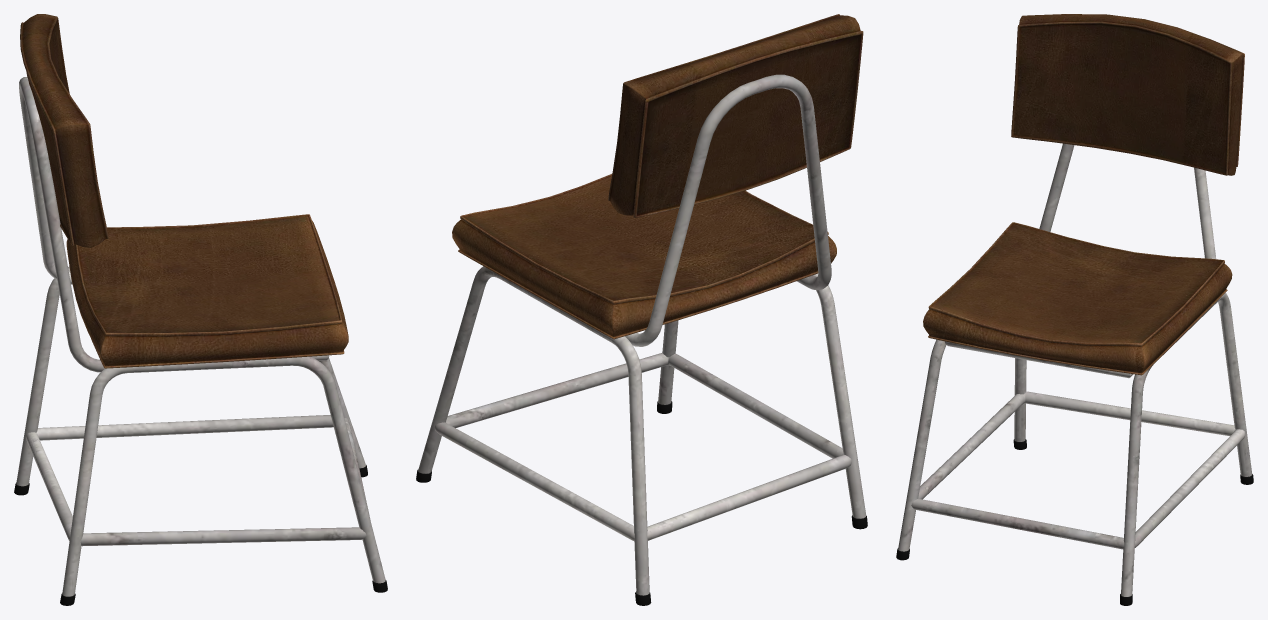
The model's file is sc_cc_leather_chair.glb.
3 renders of one model, left to right at view 1: azimuth 30°, elevation 25°; view 2: azimuth 150°, elevation 25°; view 3: azimuth 270°, elevation 25°, orthographic. The views are drawn at different scales.
Visible parts, largest first — view 1: leatherChair__Plane.018, leatherChair__Plane.016, leatherChair__Rectangl16.002, leatherChair__Line263.002, leatherChair__Line265.002, leatherChair__Line264.002; view 2: leatherChair__Plane.018, leatherChair__Plane.016, leatherChair__Rectangl16.002, leatherChair__Line265.002, leatherChair__Line264.002, leatherChair__Line263.002; view 3: leatherChair__Plane.016, leatherChair__Plane.018, leatherChair__Rectangl16.002, leatherChair__Line264.002, leatherChair__Line263.002, leatherChair__Line265.002.
Part boxes in pixels (<box>): leatherChair__Plane.018: <box>66,214,348,368</box>; leatherChair__Plane.016: <box>20,14,108,247</box>; leatherChair__Rectangl16.002: <box>26,415,370,546</box>; leatherChair__Line263.002: <box>62,356,385,596</box>; leatherChair__Line265.002: <box>19,77,329,372</box>; leatherChair__Line264.002: <box>16,266,365,486</box>; leatherChair__Plane.018: <box>452,174,836,339</box>; leatherChair__Plane.016: <box>608,14,863,217</box>; leatherChair__Rectangl16.002: <box>434,353,851,540</box>; leatherChair__Line265.002: <box>625,74,831,346</box>; leatherChair__Line264.002: <box>418,266,649,595</box>; leatherChair__Line263.002: <box>658,273,866,518</box>; leatherChair__Plane.016: <box>1011,14,1244,175</box>; leatherChair__Plane.018: <box>923,222,1232,375</box>; leatherChair__Rectangl16.002: <box>911,391,1245,549</box>; leatherChair__Line264.002: <box>1121,292,1252,596</box>; leatherChair__Line263.002: <box>898,339,1026,551</box>; leatherChair__Line265.002: <box>945,143,1216,378</box>.
Bounding box in the file's own units: 0.7333 × 0.9354 × 0.682.
3 materials, 2 textured.
